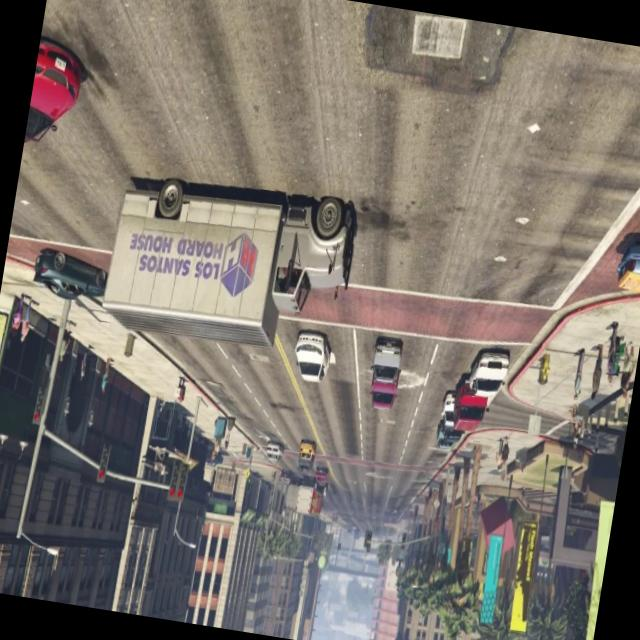Red-Signal: (163, 450, 193, 512), (92, 436, 117, 491), (28, 380, 49, 430)
